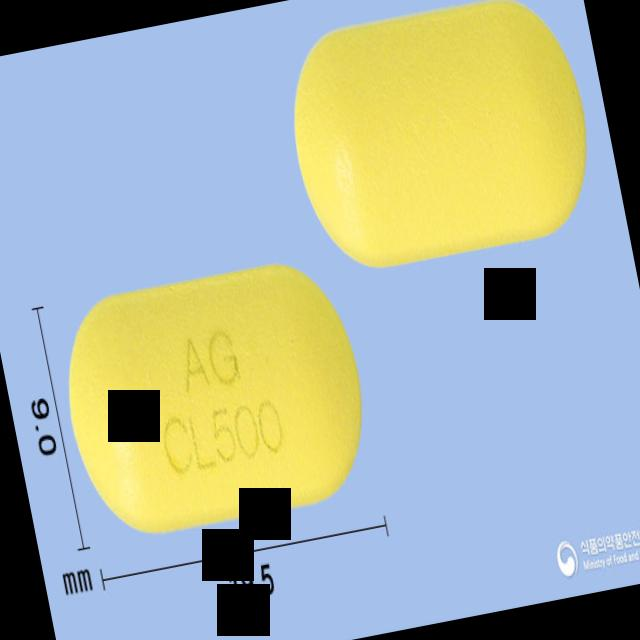Shuclari Tab-500mg: (49, 250, 382, 551)
